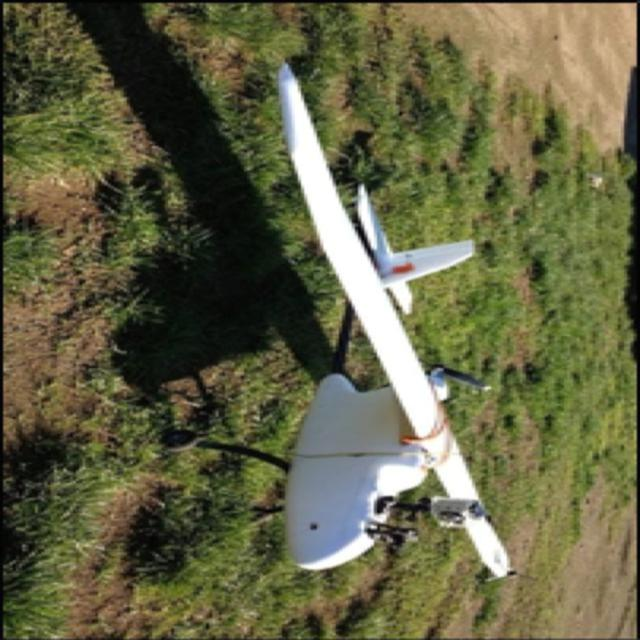plane: (166, 59, 525, 584)
